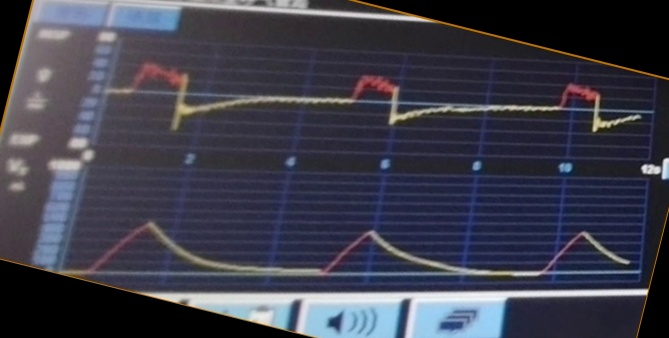Accumulation Flow: (113, 58, 637, 153)
Volume: (78, 212, 639, 281)
